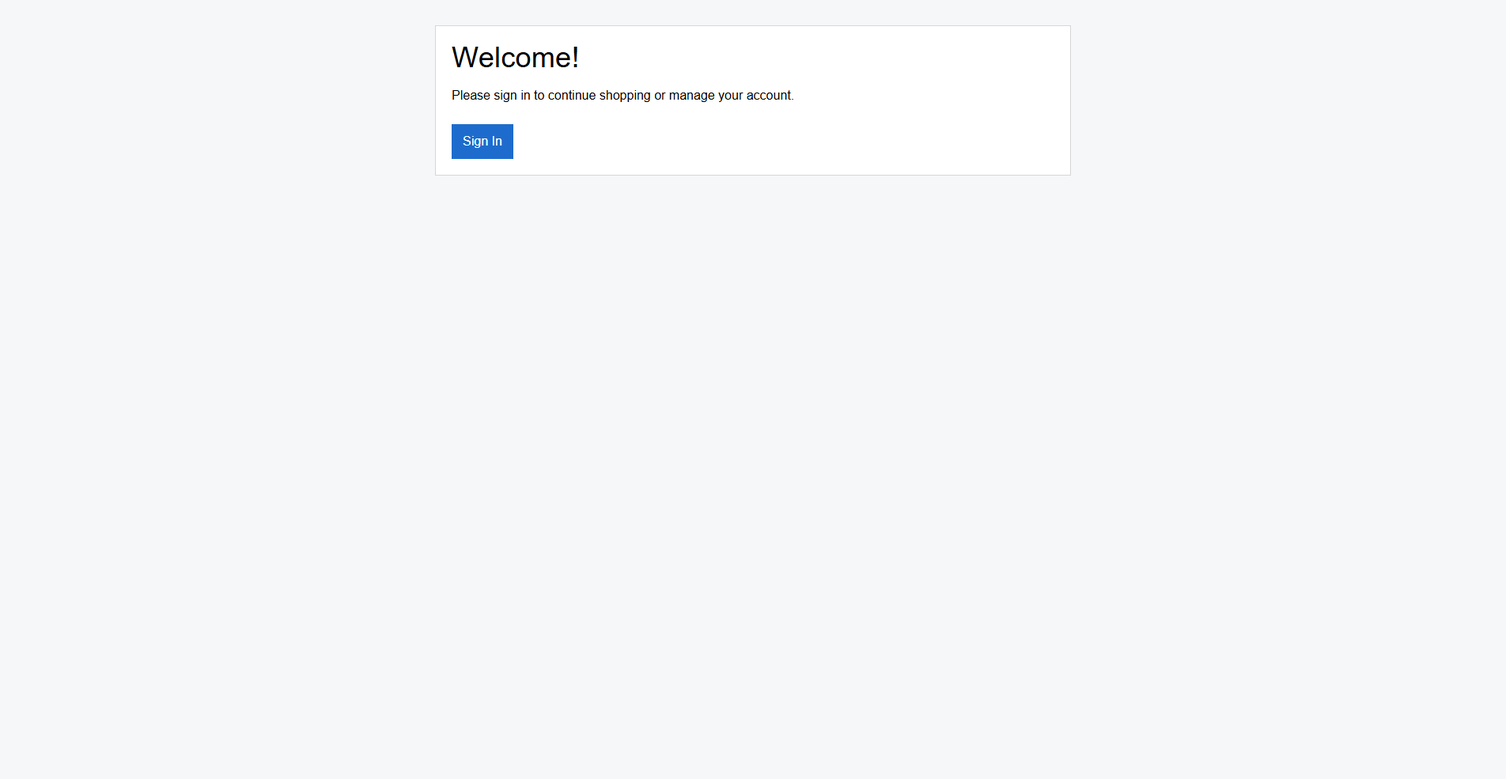button: (452, 124, 513, 159), (463, 132, 502, 151)
